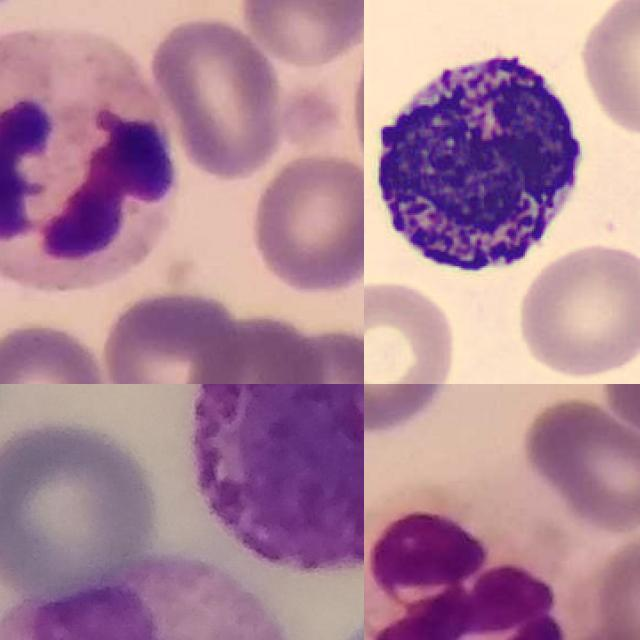Basophil: (364, 31, 594, 287), (192, 384, 364, 576)
Neutrophil: (0, 27, 175, 288), (364, 480, 588, 640), (0, 554, 309, 640)
RBC: (512, 238, 640, 381), (364, 273, 461, 384), (574, 0, 640, 141)
